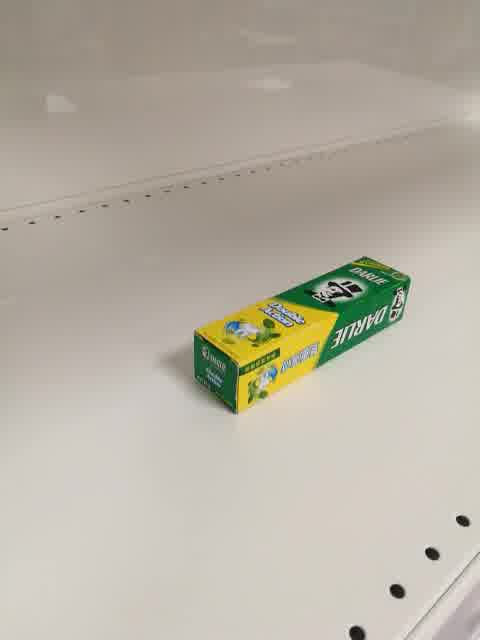toothpaste: (194, 255, 412, 416)
